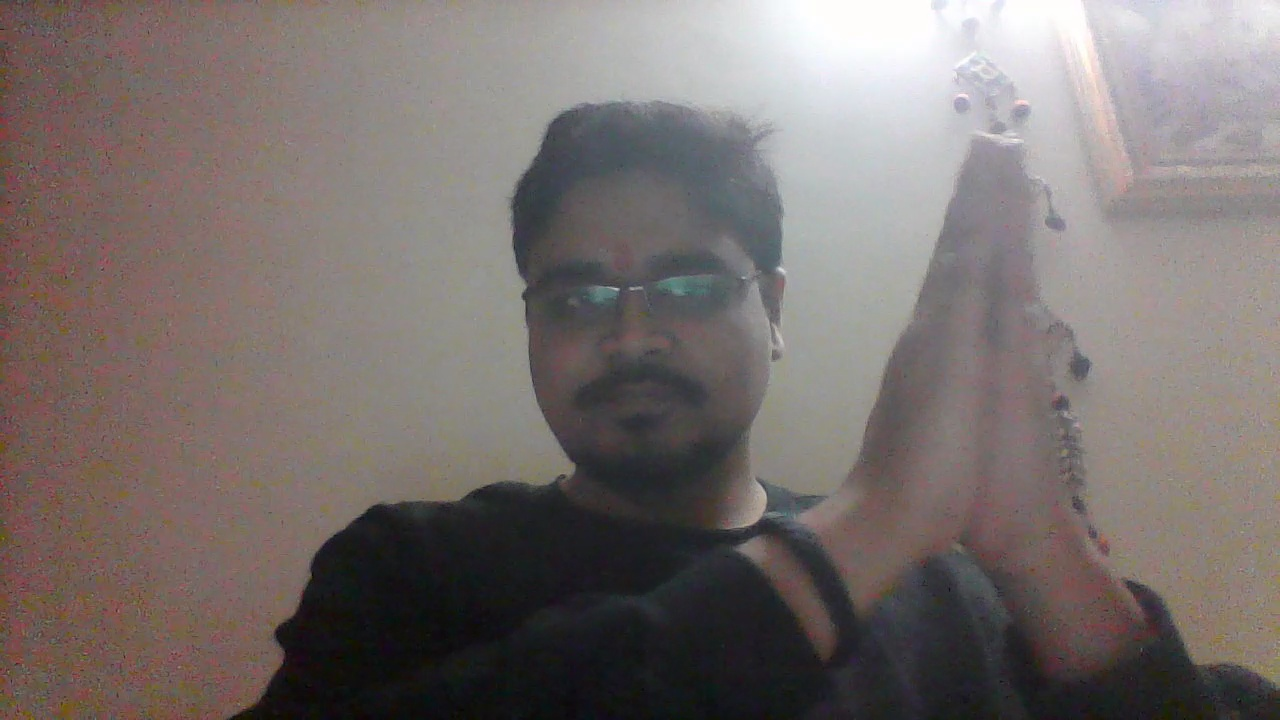Namaste: (852, 136, 1097, 656)
